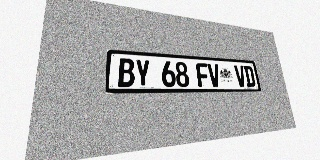6: (161, 61, 176, 87)
8: (175, 61, 190, 87)
B: (118, 58, 135, 87)
D: (243, 66, 256, 87)
F: (196, 63, 210, 87)
V: (207, 63, 221, 87), (234, 65, 247, 87)
Y: (135, 59, 151, 87)
